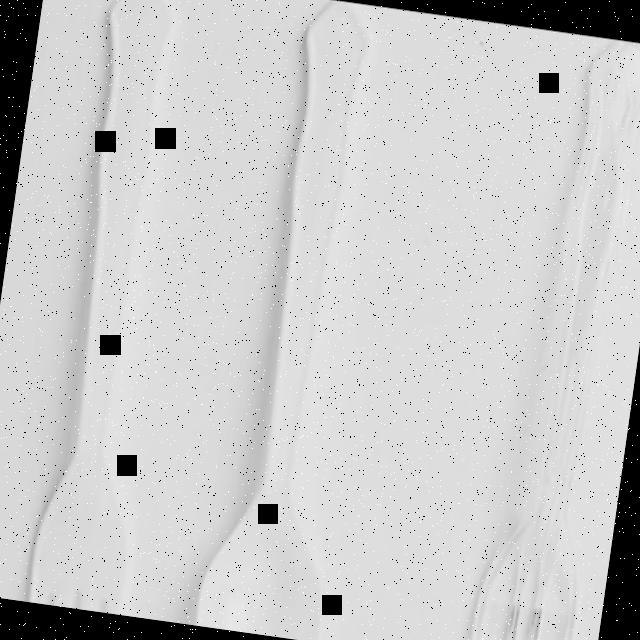plastic_cultery: (25, 0, 403, 640)
